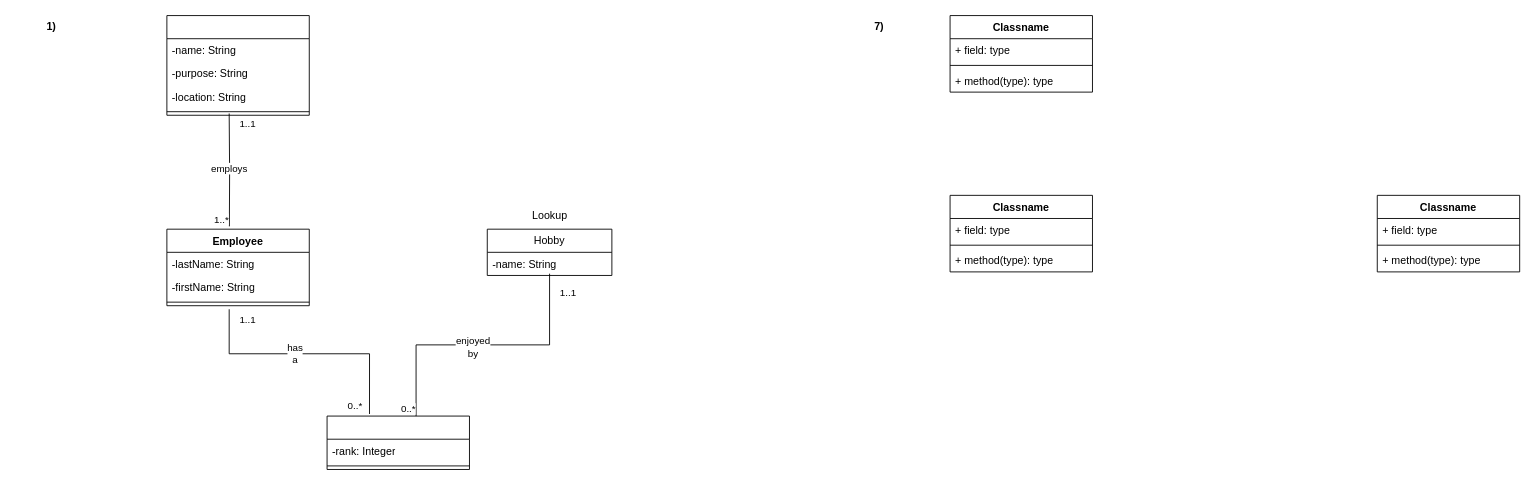
Image size: 1535x485. Some labels were removed from this diagram. Each missing label, with the box of its shape:
Department: (166, 15, 309, 115)
Hobby Rating: (326, 415, 469, 469)
